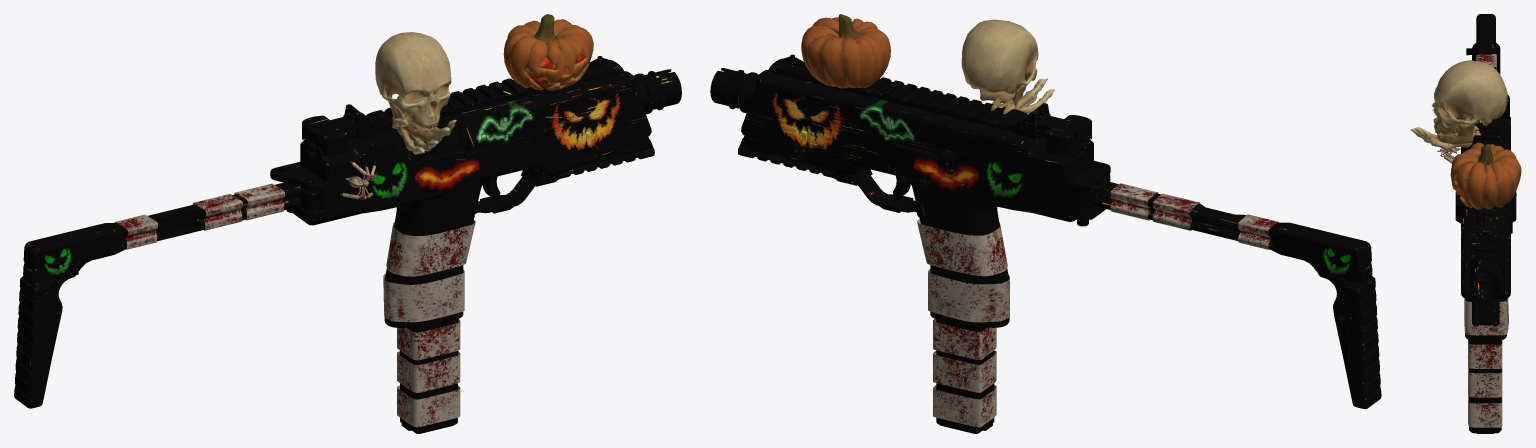
File: WEAPON_MP9_HALLOWEEN.glb
3 views of the same model, side by side, from view 1: azimuth 30°, elevation 25°; view 2: azimuth 150°, elevation 25°; view 3: azimuth 270°, elevation 25° (orthographic). The views are drawn at different scales.
Visible parts, largest first — view 1: AAPClip.003; view 2: AAPClip.003; view 3: AAPClip.003.
Part boxes in pixels (<box>): AAPClip.003: <box>14,14,681,433</box>; AAPClip.003: <box>710,14,1381,433</box>; AAPClip.003: <box>1410,14,1521,433</box>.
Size of the model in its own units: 0.5041 by 0.2931 by 0.0847.
10 materials, 10 textured.
